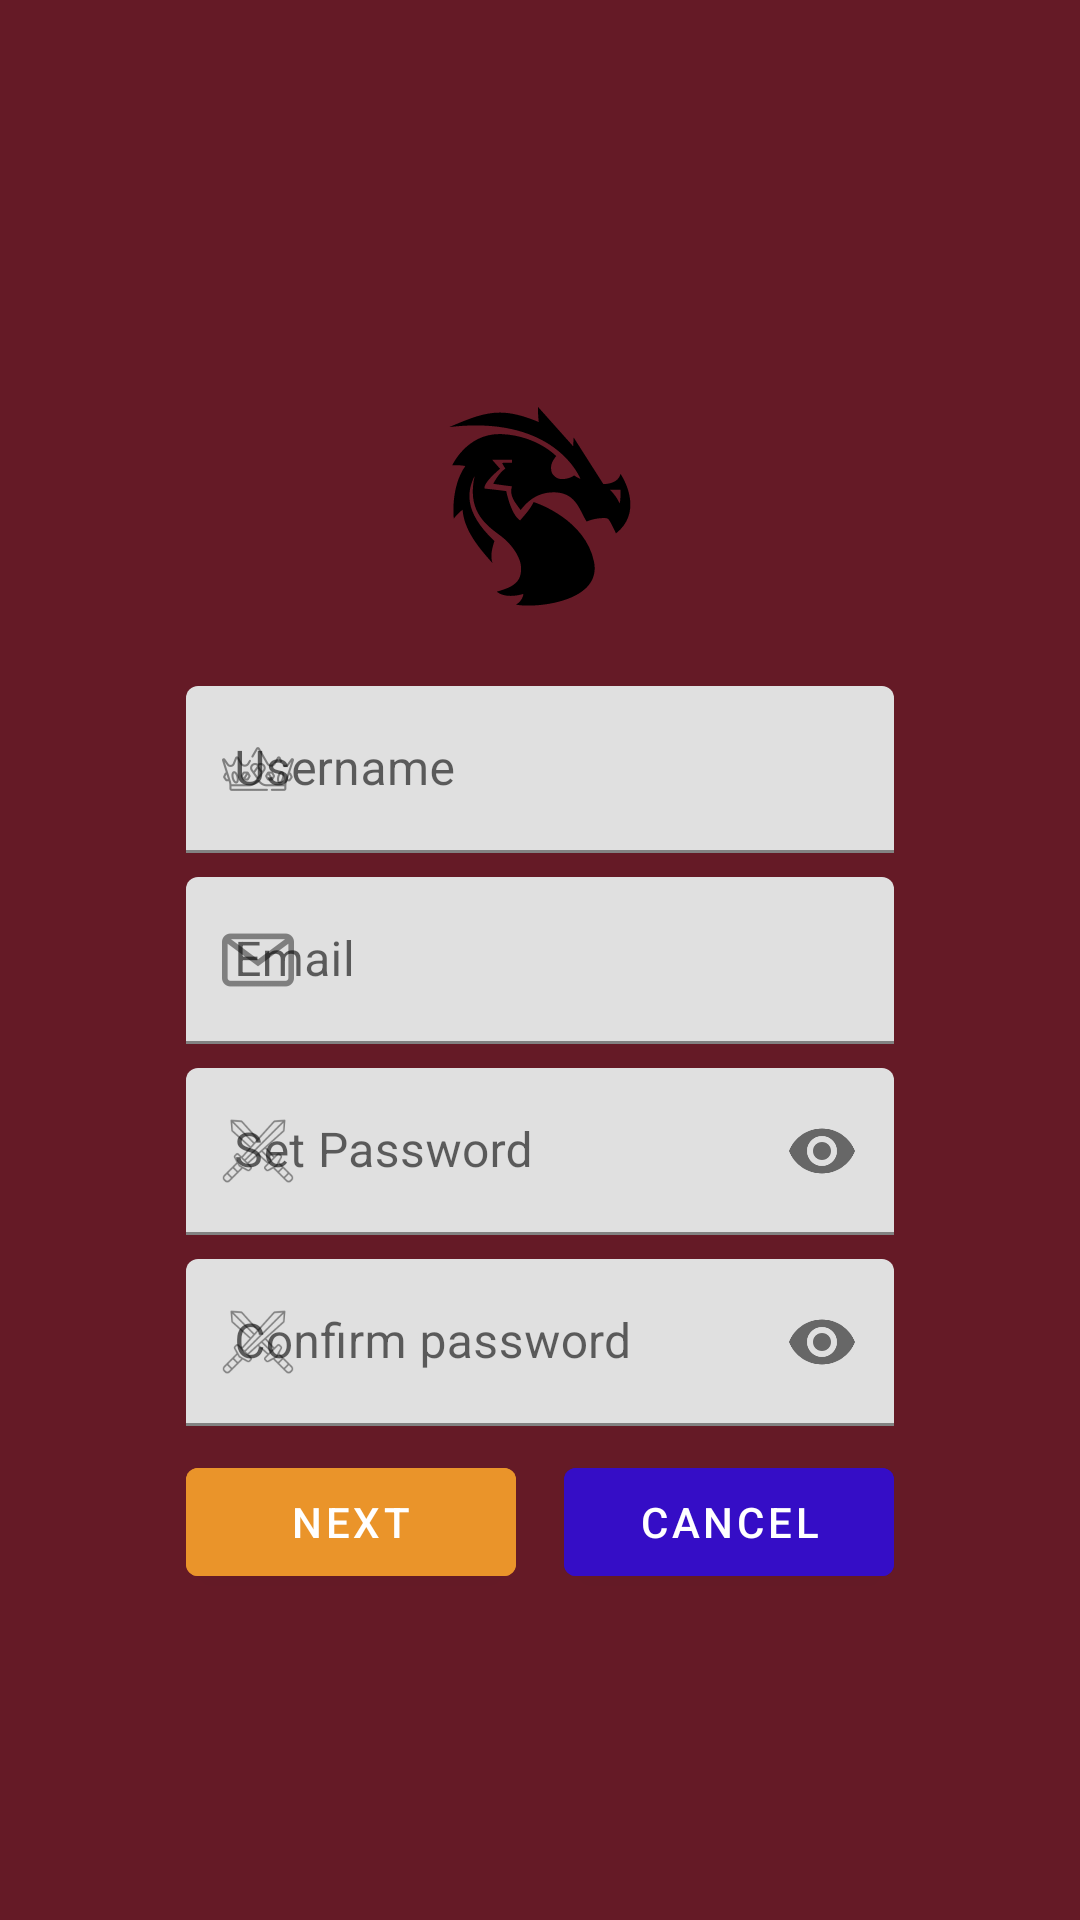

Screen size 1080*1920. Icon name, then its box in pixels as (x1, y1, x2, y2):
dragon: (450, 407, 631, 606)
